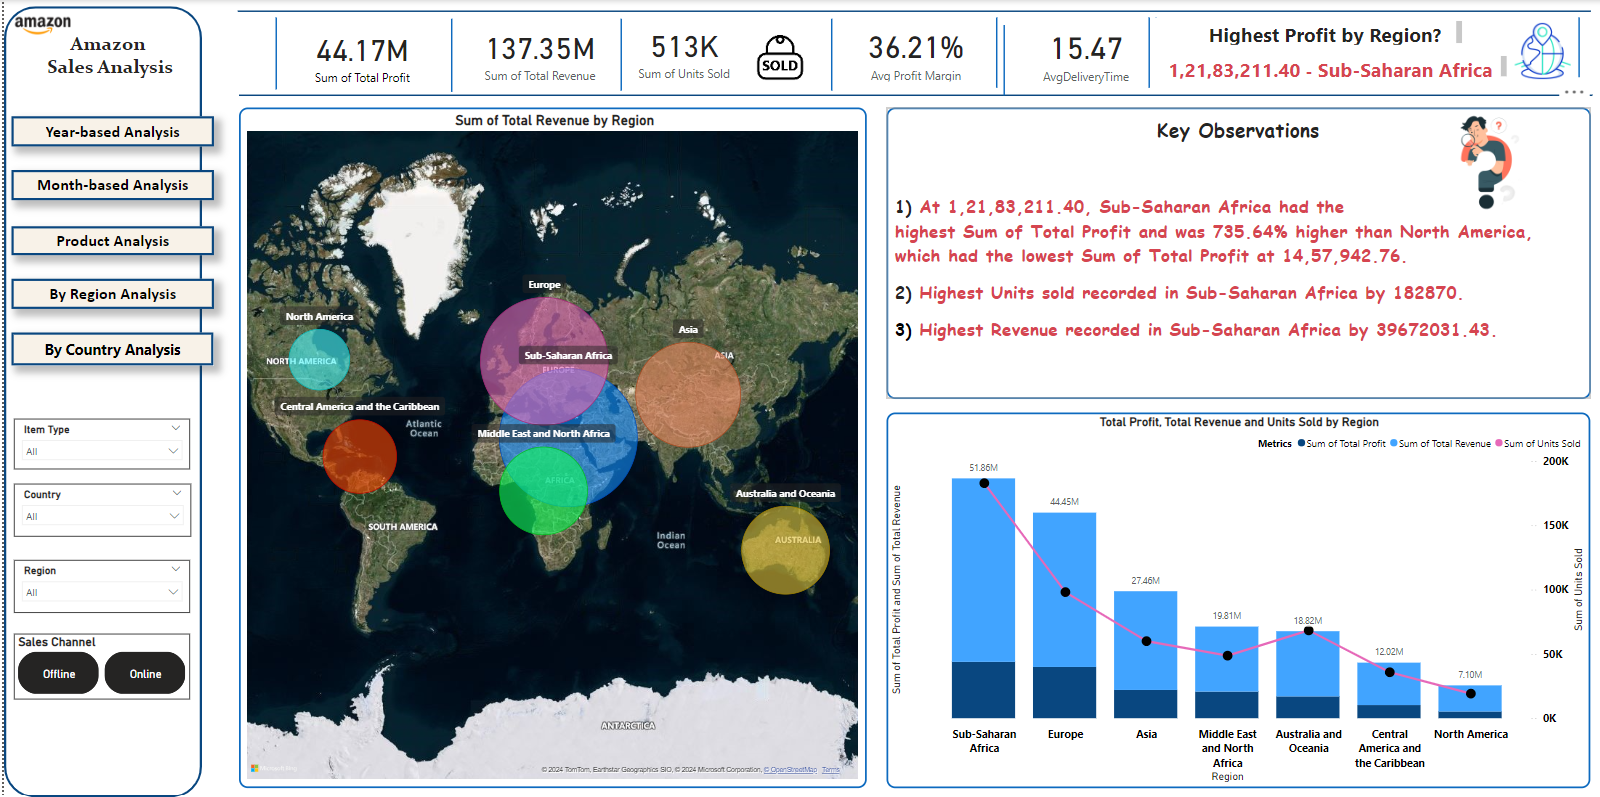

This screenshot's page, from the dashboard's own definition file:
{"tool":"powerbi","page":{"name":"By Region Analysis","canvas":[2200,1100],"ordinal":4},"visuals":[{"type":"shape","box":[0,9.3,272.8,1091],"z":0,"group":"g1"},{"type":"shape","box":[321.3,0,1864.2,30.9],"z":0},{"type":"textbox","box":[35.5,39.2,220.4,84.1],"z":1000,"group":"g1"},{"type":"shape","box":[323.2,115.8,1864.5,31.8],"z":1000},{"type":"card","fields":{"Values":["Sum(Amazon Sales data.Total Profit)"]},"box":[412.9,31.8,160.7,89.7],"z":2000},{"type":"actionButton","box":[10.4,235.6,278.9,41.6],"z":2000,"group":"g1"},{"type":"shape","box":[612.8,26.2,7.5,100.9],"z":3000},{"type":"actionButton","box":[10.4,311.8,278.9,39.8],"z":3000,"group":"g1"},{"type":"shape","box":[844.4,26.2,13.1,99],"z":4000},{"type":"actionButton","box":[10.4,384.5,278.9,41.6],"z":4000,"group":"g1"},{"type":"card","fields":{"Values":["Sum(Amazon Sales data.Total Revenue)"]},"box":[653.9,29.9,168.1,87.8],"z":5000},{"type":"slicer","fields":{"Values":["Amazon Sales data.Item Type"]},"box":[13.9,576.8,242.5,69.3],"z":5000,"group":"g1"},{"type":"shape","box":[1580.5,24.3,13.1,95.3],"z":6000},{"type":"slicer","fields":{"Values":["Amazon Sales data.Country"]},"box":[13.9,666.9,244.3,72.8],"z":6000,"group":"g1"},{"type":"card","fields":{"Values":["Sum(Amazon Sales data.Units Sold)"]},"box":[857.5,26.2,158.8,89.7],"z":7000},{"type":"slicer","fields":{"Values":["Amazon Sales data.Region"]},"box":[13.9,772.6,242.5,72.8],"z":7000,"group":"g1"},{"type":"shape","box":[1135.9,26.2,7.5,99],"z":8000},{"type":"advancedSlicerVisual","fields":{"Values":["Amazon Sales data.Sales Channel"]},"box":[13.9,873.1,242.5,90.1],"z":8000,"group":"g1"},{"type":"card","fields":{"Values":["Amazon Sales data.Avg Profit Margin"]},"box":[1165.8,26.2,181.2,91.5],"z":9000},{"type":"actionButton","box":[10.4,161.1,278.9,41.6],"z":9000,"group":"g1"},{"type":"image","box":[9.3,14.9,89.7,43],"z":10000,"group":"g1"},{"type":"shape","box":[1363.8,24.3,7.5,97.1],"z":10000},{"type":"shape","box":[368,24.3,13.1,99],"z":11000},{"type":"image","box":[1016.3,41.1,106.5,76.6],"z":12000},{"type":"textbox","box":[1634.7,24.3,379.2,43],"z":13000},{"type":"textbox","box":[1588,72.9,487.6,41.1],"z":14000},{"type":"shape","box":[2167.1,24.3,3.7,97.1],"z":15000},{"type":"group","id":"g1","title":"Group 1","box":[0,9.3,289.3,1091],"z":16000},{"type":"card","fields":{"Values":["Amazon Sales data.AvgDeliveryTime"]},"box":[1388.1,24.3,205.5,99],"z":17000},{"type":"map","fields":{"Category":["Amazon Sales data.Region"],"Size":["Sum(Amazon Sales data.Total Revenue)"]},"box":[323.4,148.3,865.2,937.3],"z":18000},{"type":"lineStackedColumnComboChart","title":"Total Profit, Total Revenue and Units Sold by Region","fields":{"Category":["Amazon Sales data.Region"],"Y":["Sum(Amazon Sales data.Total Profit)","Sum(Amazon Sales data.Total Revenue)"],"Y2":["Sum(Amazon Sales data.Units Sold)"]},"box":[1216.2,567.9,969.6,517.5],"z":19000},{"type":"textbox","box":[1215.4,148.3,970.2,401.7],"z":20000},{"type":"image","box":[1959,131.8,160.7,179.2],"z":21000},{"type":"shape","box":[1573,24.3,7.5,97.1],"z":22000},{"type":"image","box":[2075.6,20.6,89.7,99],"z":23000},{"type":"shape","box":[1373.8,34.3,7.5,97.1],"z":24000},{"type":"shape","box":[10.3,457.3,278.1,45.3],"z":25000}]}

Visuals, with their boxes in screenshot pixels (x1, y1, x2, y2), scaled from the page's 2200x1100 canvas onto the 1600x797 screenshot:
shape: detection(0, 7, 198, 796)
shape: detection(234, 0, 1589, 22)
textbox: detection(26, 28, 186, 89)
shape: detection(235, 84, 1591, 107)
card - Sum(Amazon Sales data.Total Profit): detection(300, 23, 417, 88)
actionButton: detection(8, 171, 210, 201)
shape: detection(446, 19, 451, 92)
actionButton: detection(8, 226, 210, 255)
shape: detection(614, 19, 624, 91)
actionButton: detection(8, 279, 210, 309)
card - Sum(Amazon Sales data.Total Revenue): detection(476, 22, 598, 85)
slicer - Amazon Sales data.Item Type: detection(10, 418, 186, 468)
shape: detection(1149, 18, 1159, 87)
slicer - Amazon Sales data.Country: detection(10, 483, 188, 536)
card - Sum(Amazon Sales data.Units Sold): detection(624, 19, 739, 84)
slicer - Amazon Sales data.Region: detection(10, 560, 186, 613)
shape: detection(826, 19, 832, 91)
advancedSlicerVisual - Amazon Sales data.Sales Channel: detection(10, 633, 186, 698)
card - Amazon Sales data.Avg Profit Margin: detection(848, 19, 980, 85)
actionButton: detection(8, 117, 210, 147)
image: detection(7, 11, 72, 42)
shape: detection(992, 18, 997, 88)
shape: detection(268, 18, 277, 89)
image: detection(739, 30, 817, 85)
textbox: detection(1189, 18, 1465, 49)
textbox: detection(1155, 53, 1510, 83)
shape: detection(1576, 18, 1579, 88)
"Group 1" group: detection(0, 7, 210, 796)
card - Amazon Sales data.AvgDeliveryTime: detection(1010, 18, 1159, 89)
map - Amazon Sales data.Region x Sum(Amazon Sales data.Total Revenue): detection(235, 107, 864, 787)
"Total Profit, Total Revenue and Units Sold by Region" lineStackedColumnComboChart: detection(885, 411, 1590, 786)
textbox: detection(884, 107, 1590, 398)
image: detection(1425, 95, 1542, 225)
shape: detection(1144, 18, 1149, 88)
image: detection(1510, 15, 1575, 87)
shape: detection(999, 25, 1005, 95)
shape: detection(7, 331, 210, 364)
